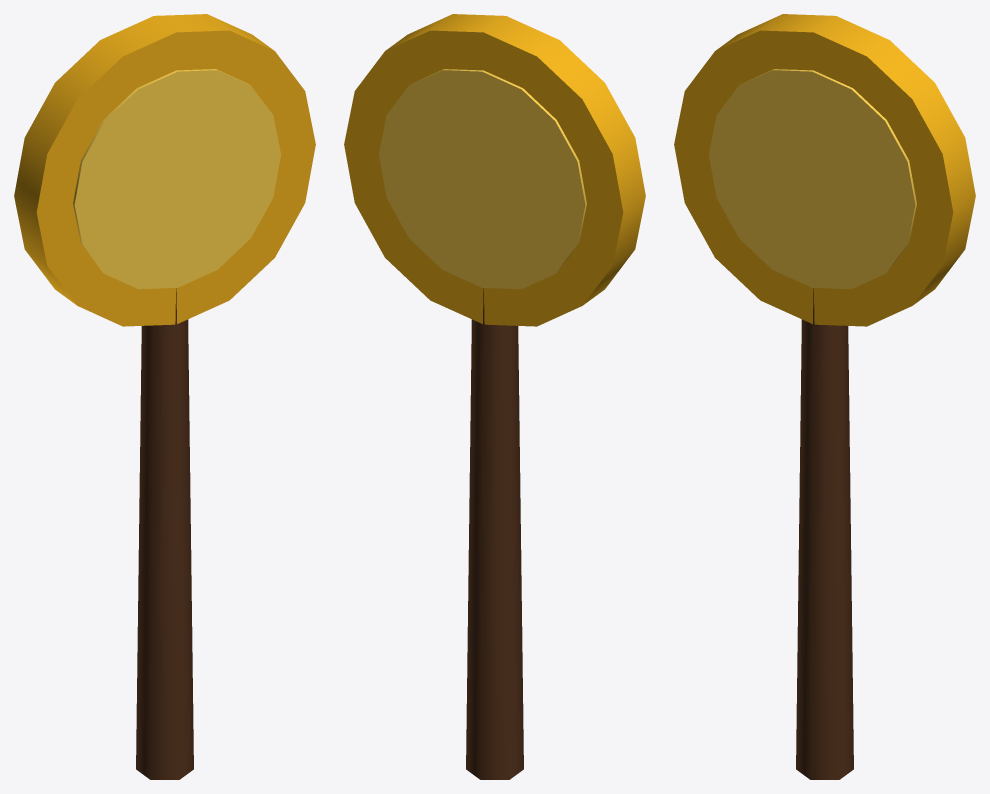
Rendered from marcador_nivel.glb.
3 renders of one model, left to right at view 1: azimuth 30°, elevation 25°; view 2: azimuth 150°, elevation 25°; view 3: azimuth 330°, elevation 25°, orthographic.
Visible parts, largest first — view 1: moneda, moneda_cara, poste; view 2: moneda, moneda_cara, poste; view 3: moneda, moneda_cara, poste.
Boxes of the visible parts, x1=… form: moneda: x1=14, y1=14, x2=315, y2=326; moneda_cara: x1=73, y1=69, x2=280, y2=289; poste: x1=136, y1=288, x2=193, y2=779; moneda: x1=344, y1=14, x2=645, y2=326; moneda_cara: x1=379, y1=69, x2=586, y2=289; poste: x1=466, y1=288, x2=523, y2=779; moneda: x1=674, y1=14, x2=975, y2=326; moneda_cara: x1=709, y1=69, x2=916, y2=289; poste: x1=796, y1=288, x2=853, y2=779.
Size of the model in its own units: 1 by 2.55 by 0.18.
